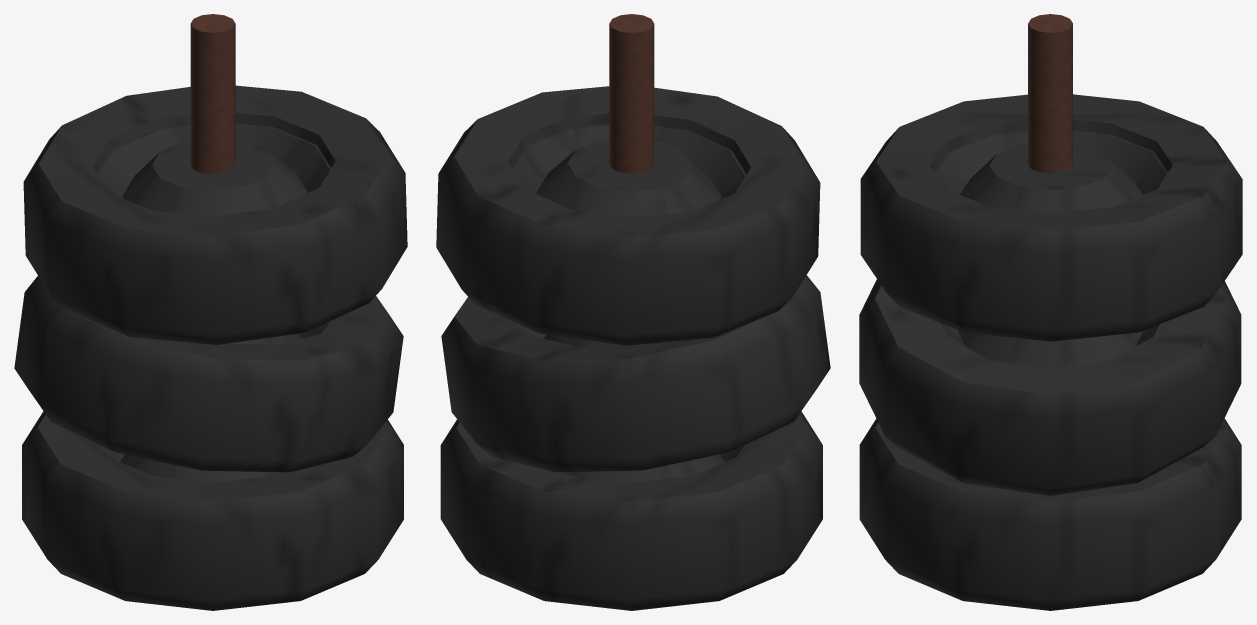
The model's file is WheelsOnStick.fbx.
3 renders of one model, left to right at view 1: azimuth 30°, elevation 25°; view 2: azimuth 150°, elevation 25°; view 3: azimuth 270°, elevation 25°, orthographic.
Parts seen in each view (by area): view 1: Cube.083; view 2: Cube.083; view 3: Cube.083.
Part boxes in pixels (x1=…): Cube.083: x1=14, y1=14, x2=407, y2=610; Cube.083: x1=436, y1=14, x2=830, y2=610; Cube.083: x1=859, y1=14, x2=1242, y2=610.
Size of the model in its own units: 116 by 166 by 112.
